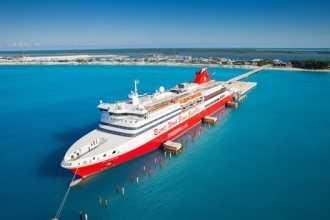youlun: (57, 65, 241, 179)
